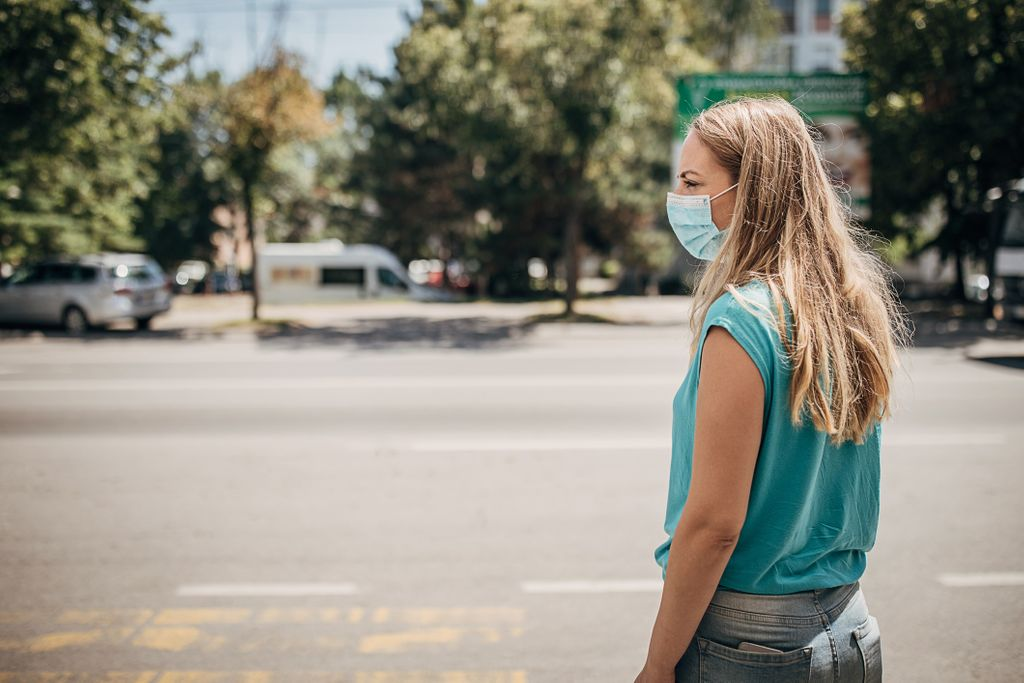with_mask: (674, 149, 735, 253)
